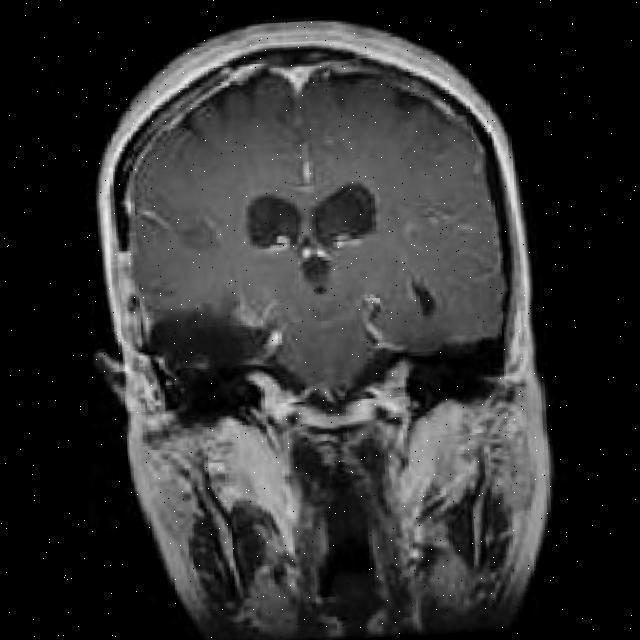MCI: (238, 172, 418, 330)
